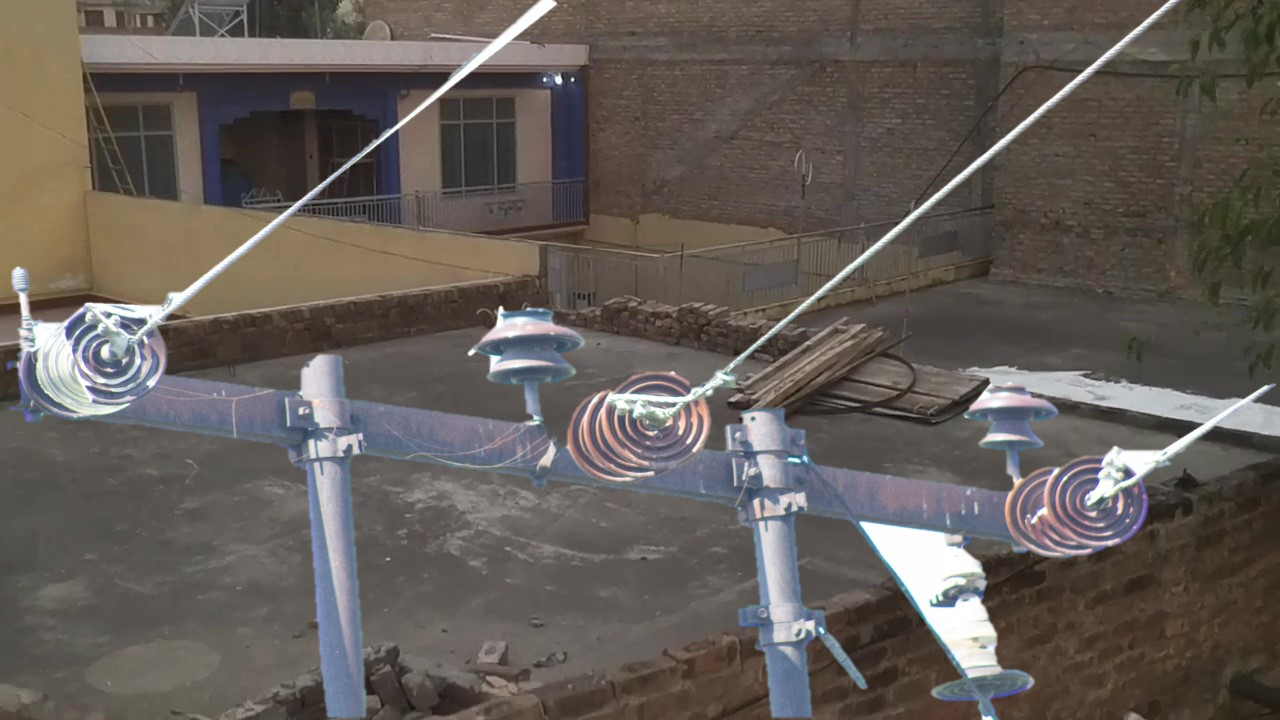defect_disc: (61, 300, 174, 406)
insulator_disc: (600, 363, 714, 476), (1040, 447, 1154, 555)
